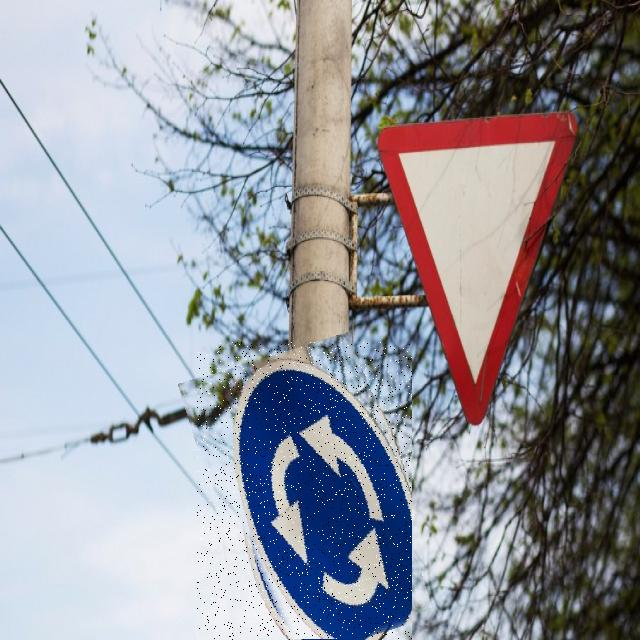roundabout: (197, 342, 412, 640)
